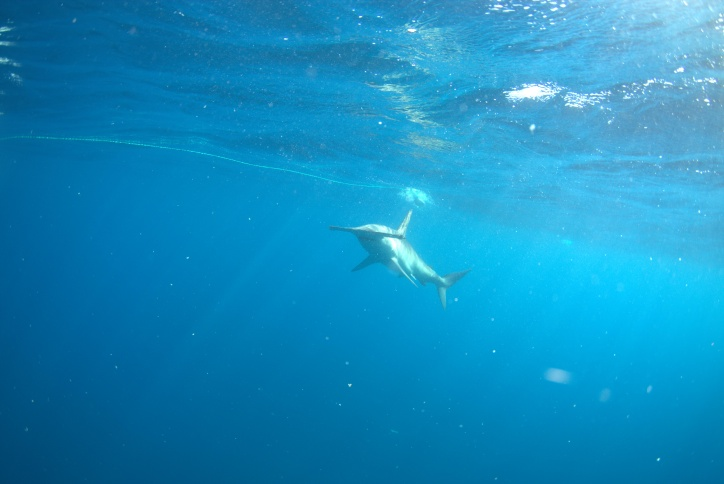Hammer: (311, 191, 495, 332)
